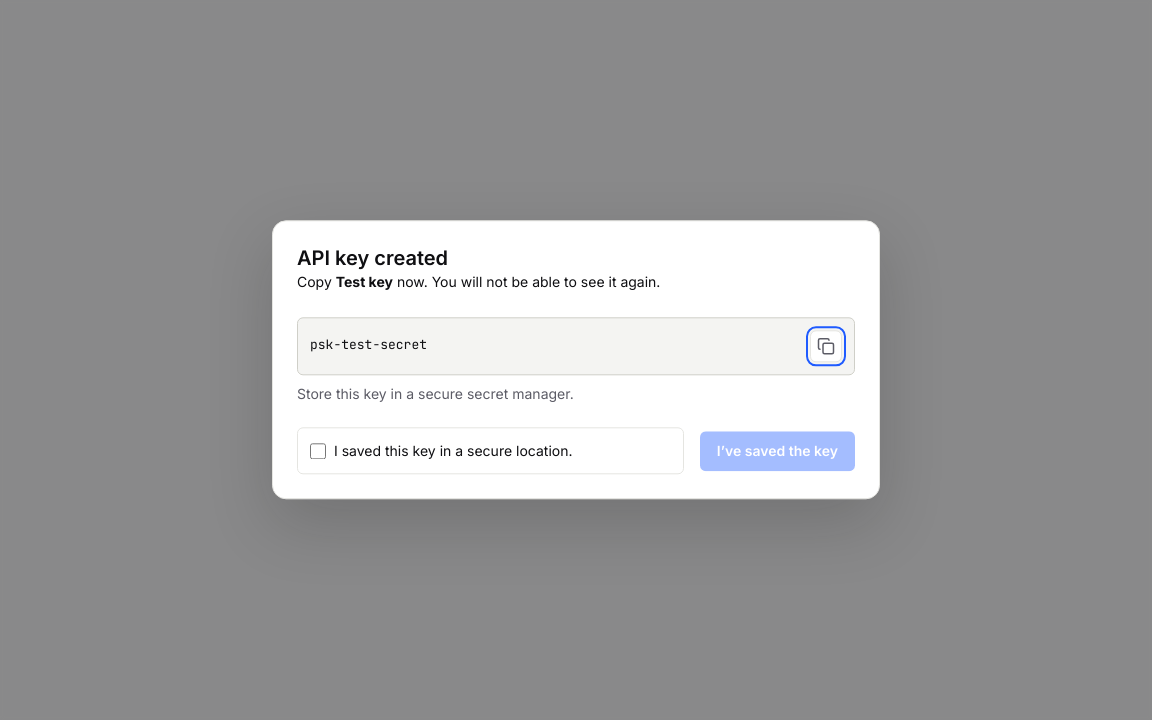
Test: SecretCreatedDialog › allows manual recovery when clipboard access fails
The image size is (1152, 720).
Click the button named "Copy API key" at (826, 346), box [810, 330, 842, 362]
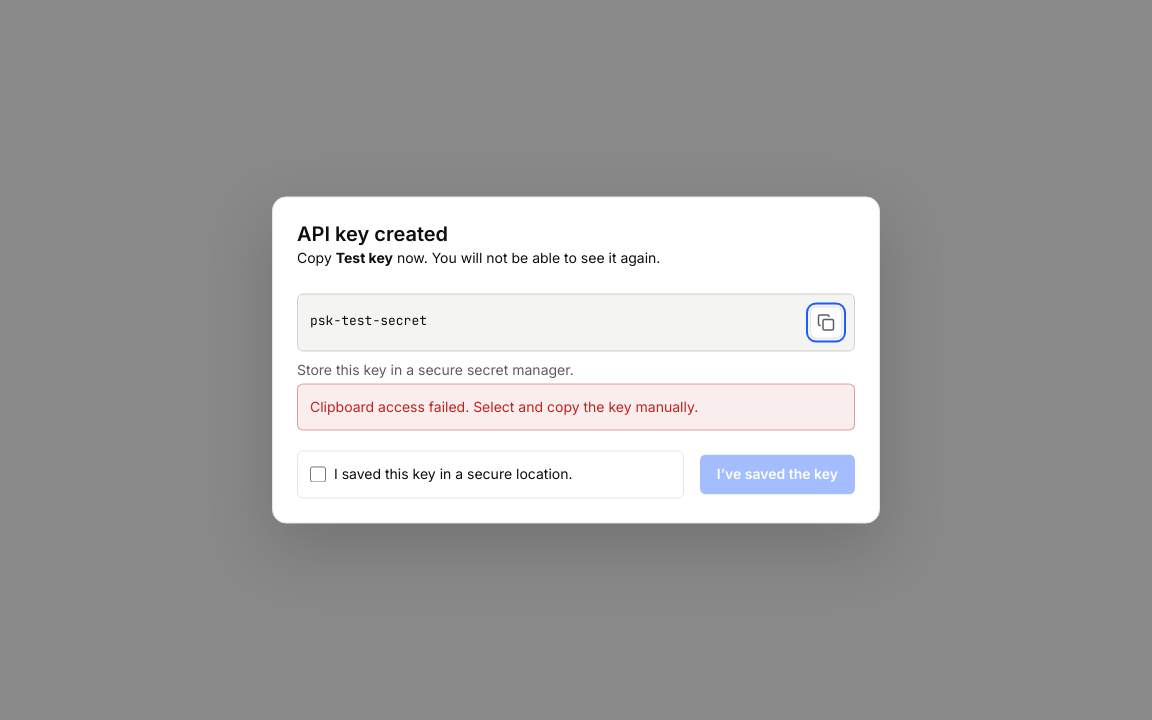
Check: the button "I’ve saved the key" is disabled, box [700, 455, 855, 495]
Check: the message "Clipboard access failed. Select and copy the key manually." is shown, box [297, 383, 855, 431]
Click the checkbox labelled "I saved this key in a secure location." at (318, 475), box [310, 467, 326, 483]
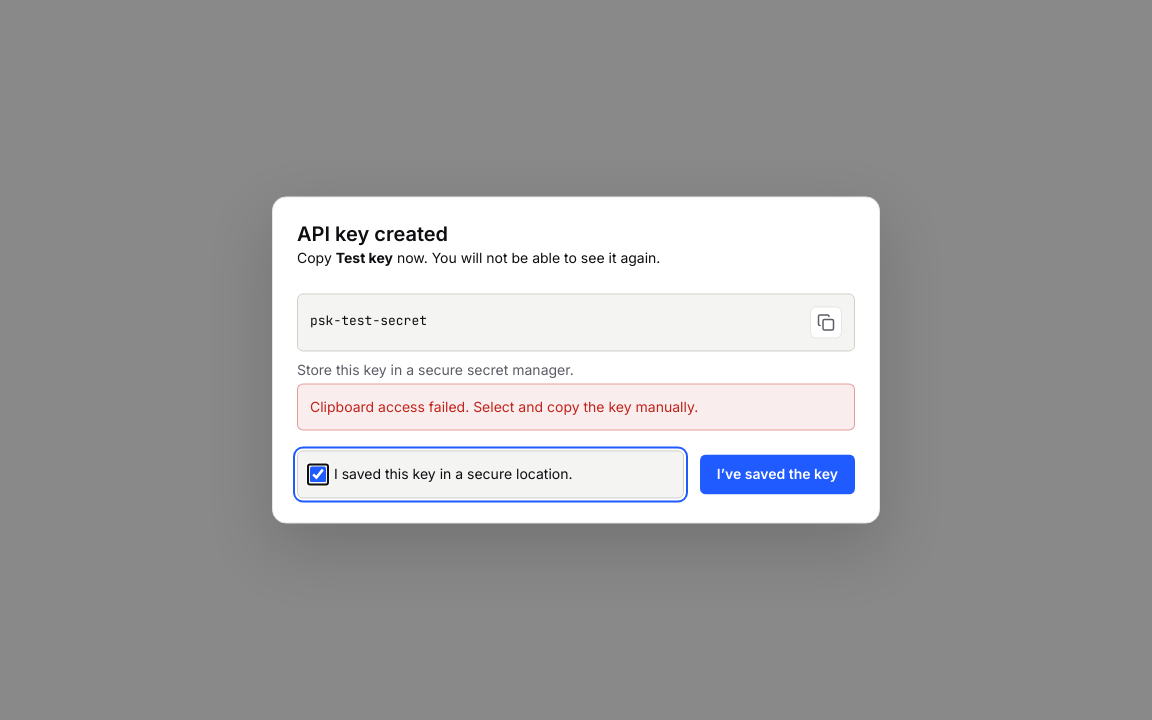
Check: the button "I’ve saved the key" is enabled, box [700, 455, 855, 495]
